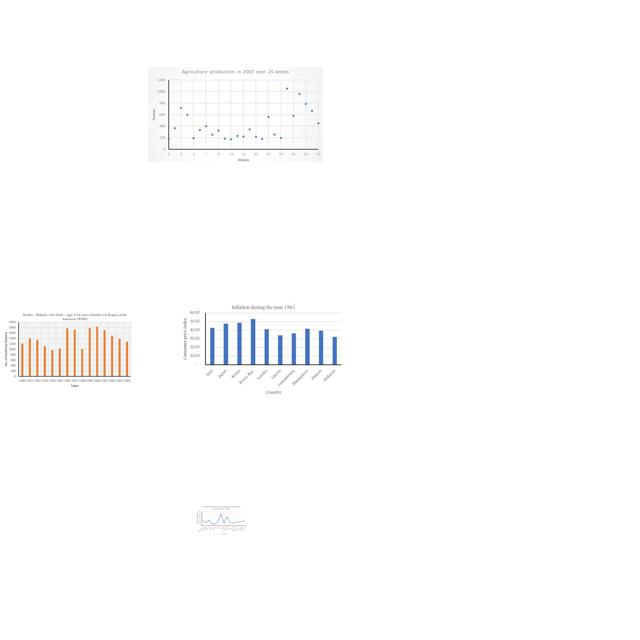Graph: (148, 67, 323, 162), (182, 303, 344, 396), (2, 310, 133, 388), (195, 505, 247, 536)
